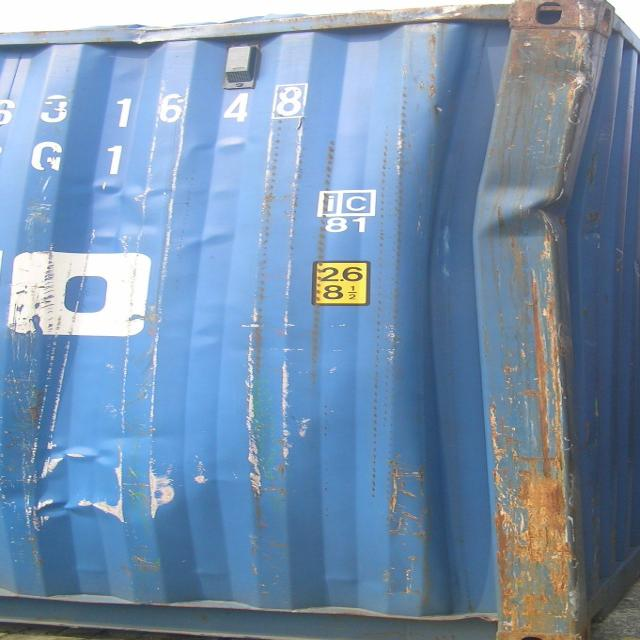dent: (468, 1, 609, 640), (1, 1, 512, 56), (76, 131, 267, 258), (11, 428, 199, 526)
